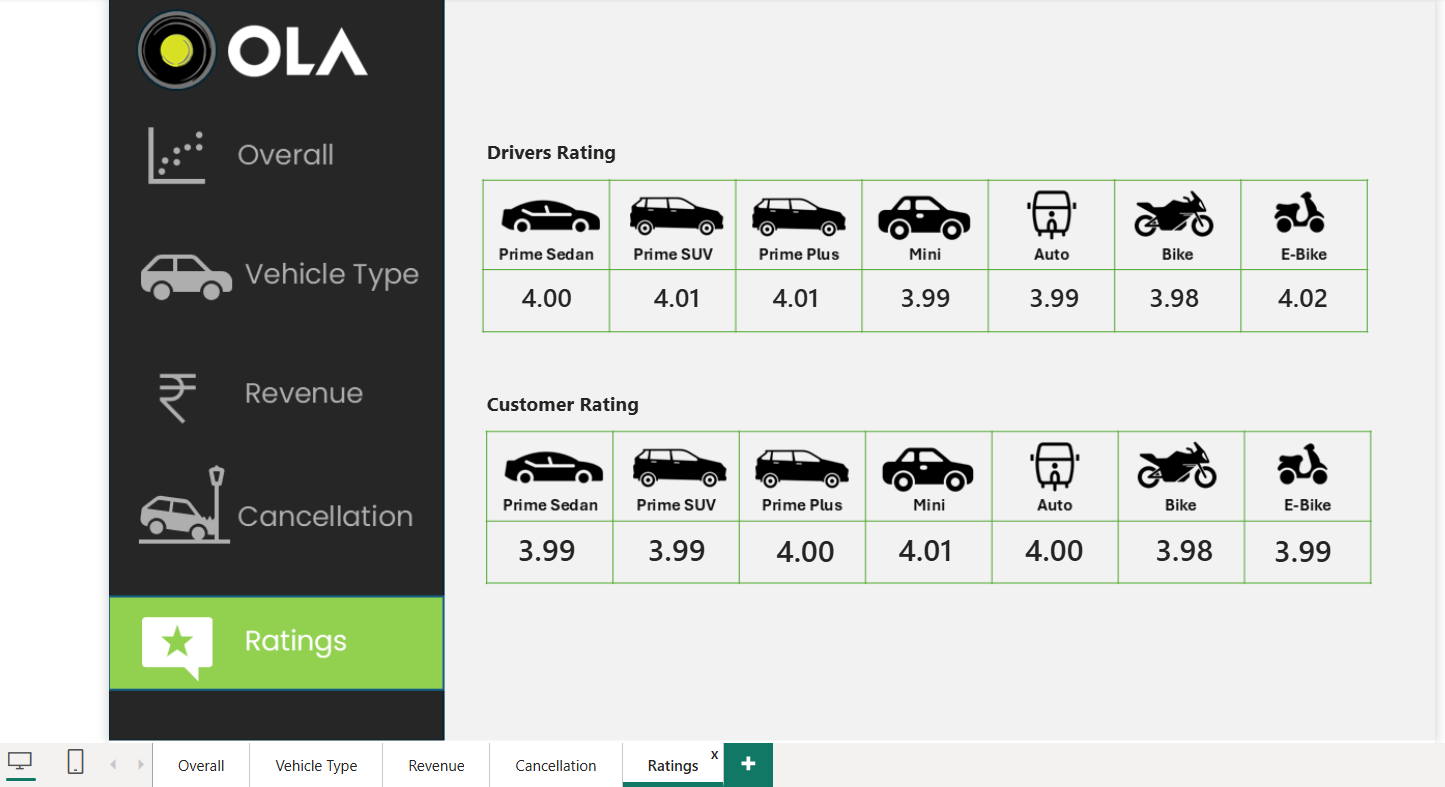

Layout of this report page (visuals, bound fields, positions):
{"tool":"powerbi","page":{"name":"Ratings","canvas":[1280,720],"ordinal":4},"visuals":[{"type":"actionButton","box":[0,222,326.9,96.5],"z":0},{"type":"actionButton","box":[0,345,326.9,96.5],"z":1},{"type":"actionButton","box":[0,468.1,326.9,96.5],"z":2},{"type":"actionButton","box":[0,108.6,326.9,96.5],"z":3},{"type":"cardVisual","fields":{"Data":["Avg(Booking.Driver_Ratings)"]},"box":[359.5,260.7,124.9,57.6],"z":4},{"type":"cardVisual","fields":{"Data":["Avg(Booking.Driver_Ratings)"]},"box":[484.4,260.7,124.9,57.6],"z":5},{"type":"cardVisual","fields":{"Data":["Avg(Booking.Driver_Ratings)"]},"box":[599.7,260.7,124.9,57.6],"z":6},{"type":"cardVisual","fields":{"Data":["Avg(Booking.Driver_Ratings)"]},"box":[724.5,260.7,124.9,57.6],"z":7},{"type":"cardVisual","fields":{"Data":["Avg(Booking.Driver_Ratings)"]},"box":[849.4,260.7,124.9,57.6],"z":8},{"type":"cardVisual","fields":{"Data":["Avg(Booking.Driver_Ratings)"]},"box":[964.7,260.7,124.9,57.6],"z":9},{"type":"cardVisual","fields":{"Data":["Avg(Booking.Driver_Ratings)"]},"box":[1089.5,260.7,124.9,57.6],"z":10},{"type":"textbox","box":[359.5,131.7,140,38.4],"z":11},{"type":"textbox","box":[359.5,374.6,199,38.4],"z":12},{"type":"cardVisual","fields":{"Data":["Avg(Booking.Customer_Rating)"]},"box":[359.5,502.2,124.9,61.7],"z":13},{"type":"cardVisual","fields":{"Data":["Avg(Booking.Customer_Rating)"]},"box":[484.4,502.2,124.9,61.7],"z":14},{"type":"cardVisual","fields":{"Data":["Avg(Booking.Customer_Rating)"]},"box":[609.3,503.6,124.9,61.7],"z":15},{"type":"cardVisual","fields":{"Data":["Avg(Booking.Customer_Rating)"]},"box":[724.5,502.2,124.9,61.7],"z":16},{"type":"cardVisual","fields":{"Data":["Avg(Booking.Customer_Rating)"]},"box":[849.4,502.2,124.9,61.7],"z":17},{"type":"cardVisual","fields":{"Data":["Avg(Booking.Customer_Rating)"]},"box":[974.3,502.2,124.9,61.7],"z":18},{"type":"cardVisual","fields":{"Data":["Avg(Booking.Customer_Rating)"]},"box":[1089.5,503.6,124.9,61.7],"z":19}]}

Visuals, with their boxes on the page's 1280x720 design canvas (x1, y1, x2, y2). These are canvas units, not pixel positions in the 1445x787 screenshot, which may show the page scaled, cropped or inside an application window:
actionButton: x1=0 y1=222 x2=327 y2=318
actionButton: x1=0 y1=345 x2=327 y2=442
actionButton: x1=0 y1=468 x2=327 y2=565
actionButton: x1=0 y1=109 x2=327 y2=205
cardVisual - Avg(Booking.Driver_Ratings): x1=360 y1=261 x2=484 y2=318
cardVisual - Avg(Booking.Driver_Ratings): x1=484 y1=261 x2=609 y2=318
cardVisual - Avg(Booking.Driver_Ratings): x1=600 y1=261 x2=725 y2=318
cardVisual - Avg(Booking.Driver_Ratings): x1=724 y1=261 x2=849 y2=318
cardVisual - Avg(Booking.Driver_Ratings): x1=849 y1=261 x2=974 y2=318
cardVisual - Avg(Booking.Driver_Ratings): x1=965 y1=261 x2=1090 y2=318
cardVisual - Avg(Booking.Driver_Ratings): x1=1090 y1=261 x2=1214 y2=318
textbox: x1=360 y1=132 x2=500 y2=170
textbox: x1=360 y1=375 x2=558 y2=413
cardVisual - Avg(Booking.Customer_Rating): x1=360 y1=502 x2=484 y2=564
cardVisual - Avg(Booking.Customer_Rating): x1=484 y1=502 x2=609 y2=564
cardVisual - Avg(Booking.Customer_Rating): x1=609 y1=504 x2=734 y2=565
cardVisual - Avg(Booking.Customer_Rating): x1=724 y1=502 x2=849 y2=564
cardVisual - Avg(Booking.Customer_Rating): x1=849 y1=502 x2=974 y2=564
cardVisual - Avg(Booking.Customer_Rating): x1=974 y1=502 x2=1099 y2=564
cardVisual - Avg(Booking.Customer_Rating): x1=1090 y1=504 x2=1214 y2=565
